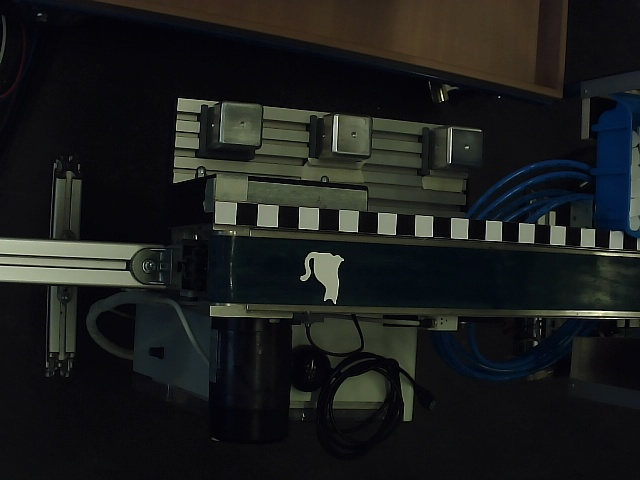cat: (300, 252, 346, 304)
